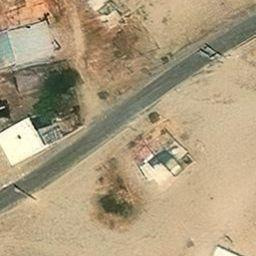manzanas: (0, 16, 85, 169), (126, 127, 197, 191)
